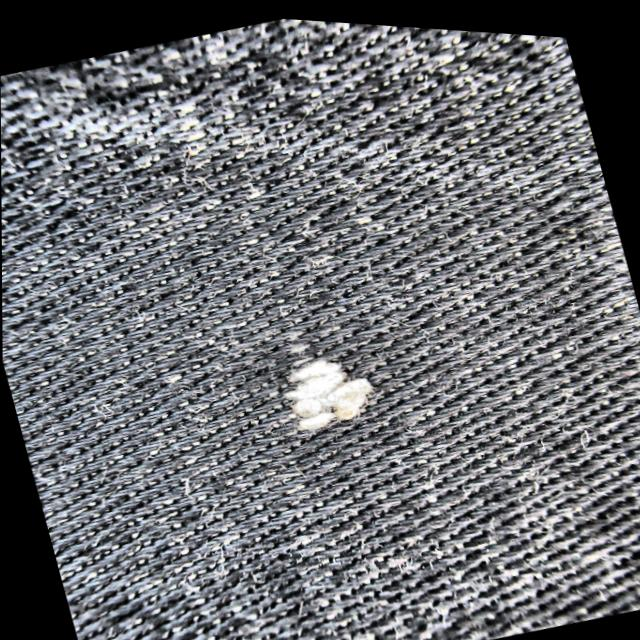Hole: (286, 350, 374, 428)
